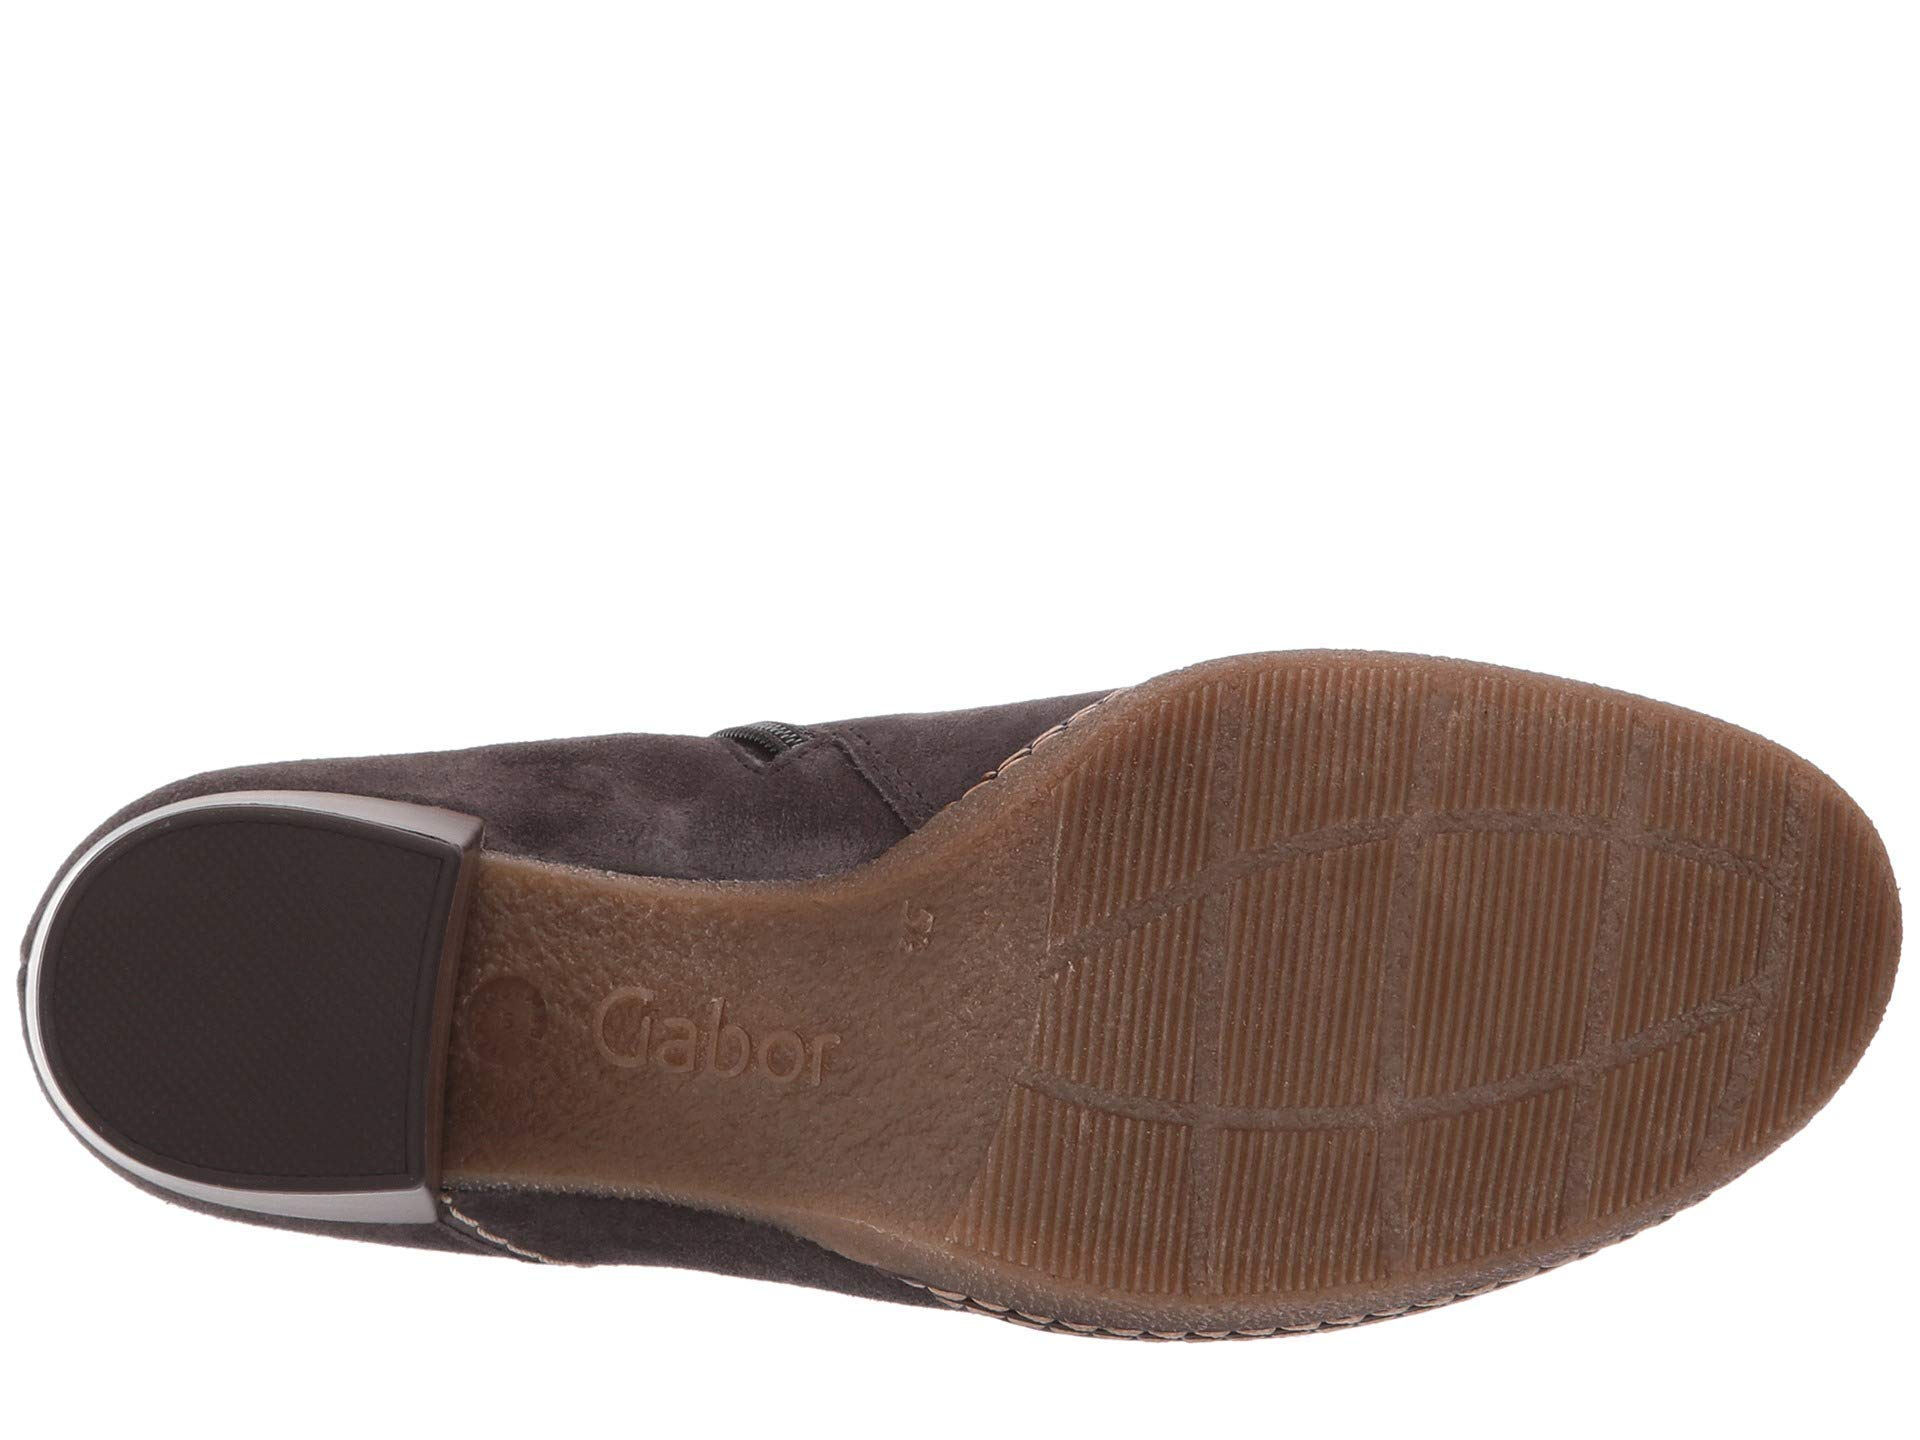line: (943, 664, 1899, 1325)
other: (38, 811, 447, 1192)
quad: (943, 664, 1899, 1325)
